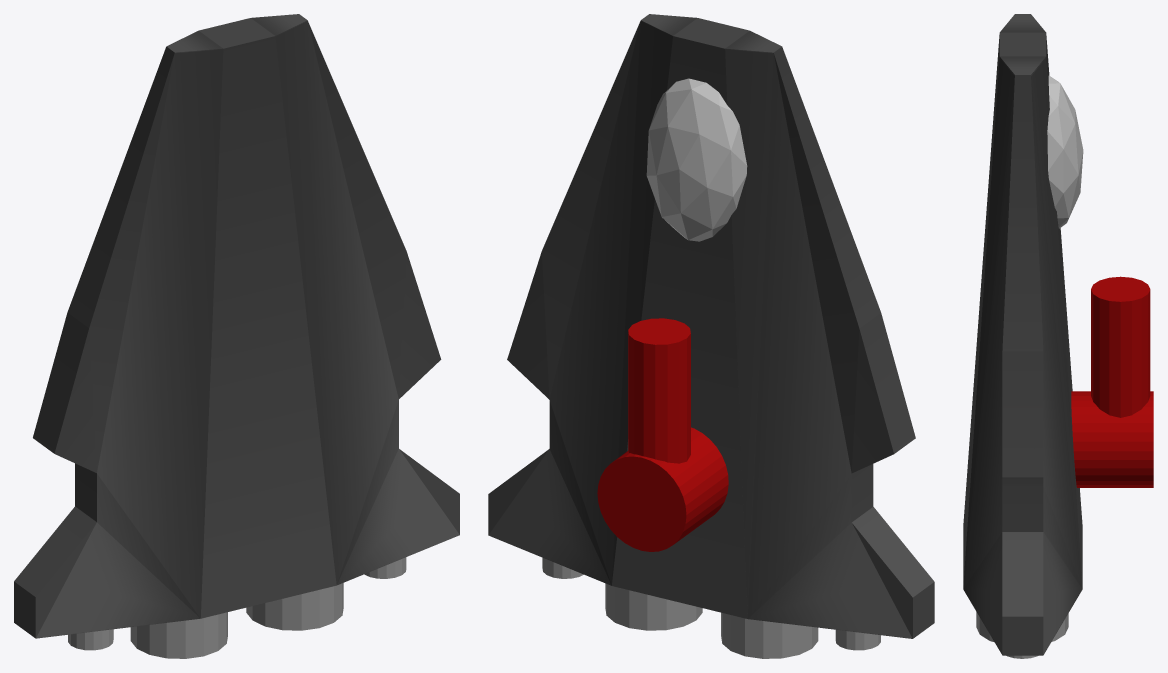
Rendered from Spaceship.dae.
The picture shows the model from 3 angles, left to right: view 1: azimuth 30°, elevation 25°; view 2: azimuth 150°, elevation 25°; view 3: azimuth 270°, elevation 25°; orthographic projection. The views are drawn at different scales.
Visible parts, largest first — view 1: Base, Thrustor Big, Thrustor Small; view 2: Base, Cockpit, CannonBase, Cannon, Thrustor Big, Thrustor Small; view 3: Base, Cannon, CannonBase, Cockpit, Thrustor Big.
Part boxes in pixels (x1,y1,x2,y2): Base: [14, 14, 459, 638]; Thrustor Big: [130, 583, 343, 658]; Thrustor Small: [68, 557, 406, 650]; Base: [488, 14, 934, 638]; Cockpit: [646, 78, 747, 241]; CannonBase: [597, 427, 728, 551]; Cannon: [628, 318, 690, 463]; Thrustor Big: [605, 583, 818, 658]; Thrustor Small: [542, 557, 880, 650]; Base: [963, 14, 1082, 655]; Cannon: [1091, 276, 1150, 417]; CannonBase: [1071, 391, 1153, 487]; Cockpit: [1047, 75, 1083, 228]; Thrustor Big: [976, 612, 1068, 642].
Size of the model in its own units: 8.39 by 3.47 by 11.17.
Materials: 4 (1 with a texture image).
